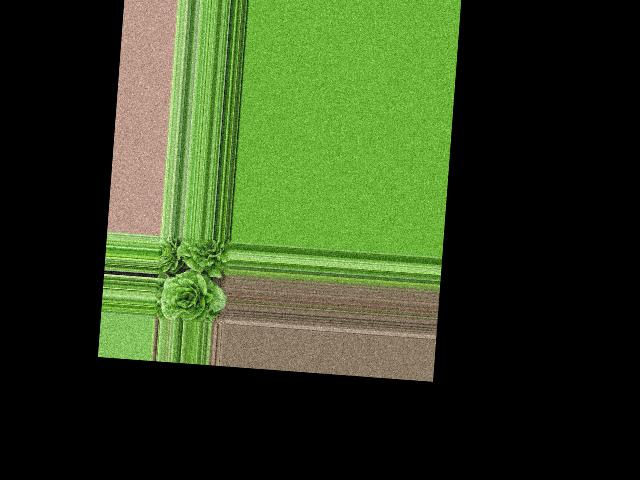lettuce: (175, 235, 230, 273)
